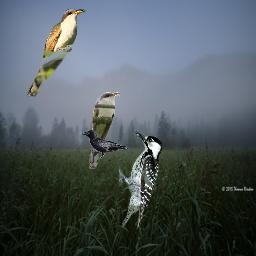Crow: (81, 130, 129, 159)
Cuckoo: (26, 7, 86, 98), (89, 92, 120, 169)
Woodpecker: (119, 130, 162, 229)
